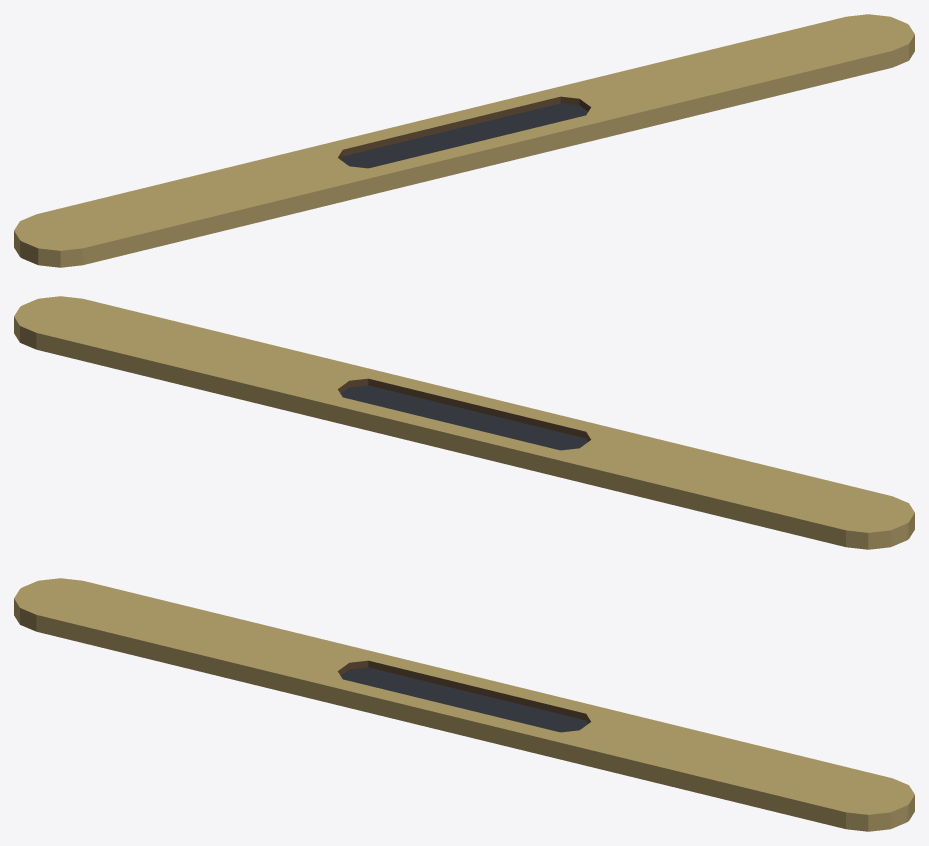
File: popsicle_stick.glb
The picture shows the model from 3 angles, top to bottom: view 1: azimuth 30°, elevation 25°; view 2: azimuth 150°, elevation 25°; view 3: azimuth 330°, elevation 25°; orthographic projection.
Visible parts, largest first — view 1: popsicle_stick; view 2: popsicle_stick; view 3: popsicle_stick.
Boxes of the visible parts, x1,y1,x2,y2 form: popsicle_stick: (14,14,914,267); popsicle_stick: (14,296,914,549); popsicle_stick: (14,578,914,831).
Size of the model in its own units: 0.11 by 0.002 by 0.01.
